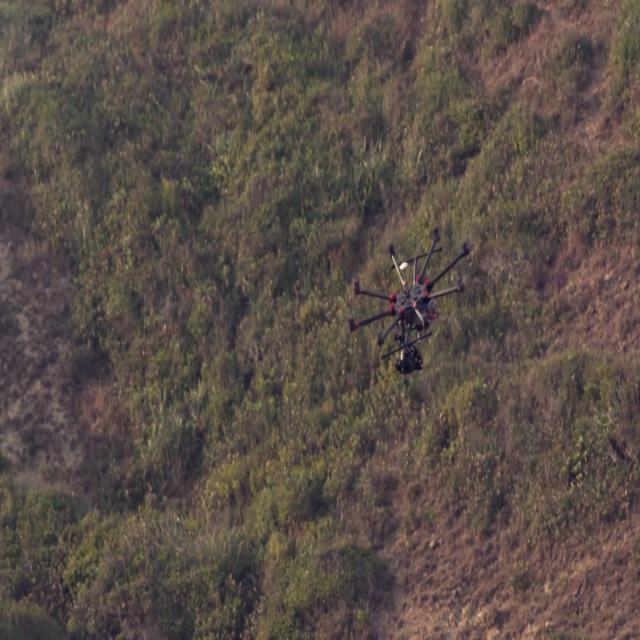drone: (345, 231, 487, 397)
